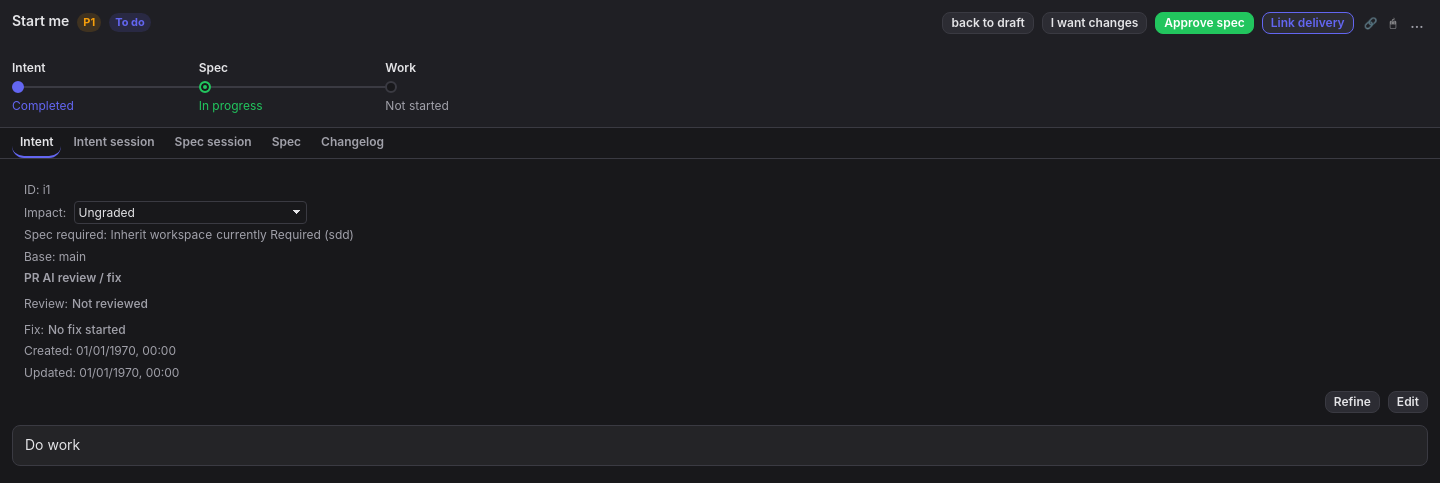
Scenario: IntentDetail.vue — SDD four-state main action › SDD on + spec written, not approved → Approve Spec opens the spec tab only
Click the button with class "req-btn" showing "Approve spec": (1204, 23) [1155,12,1254,34]
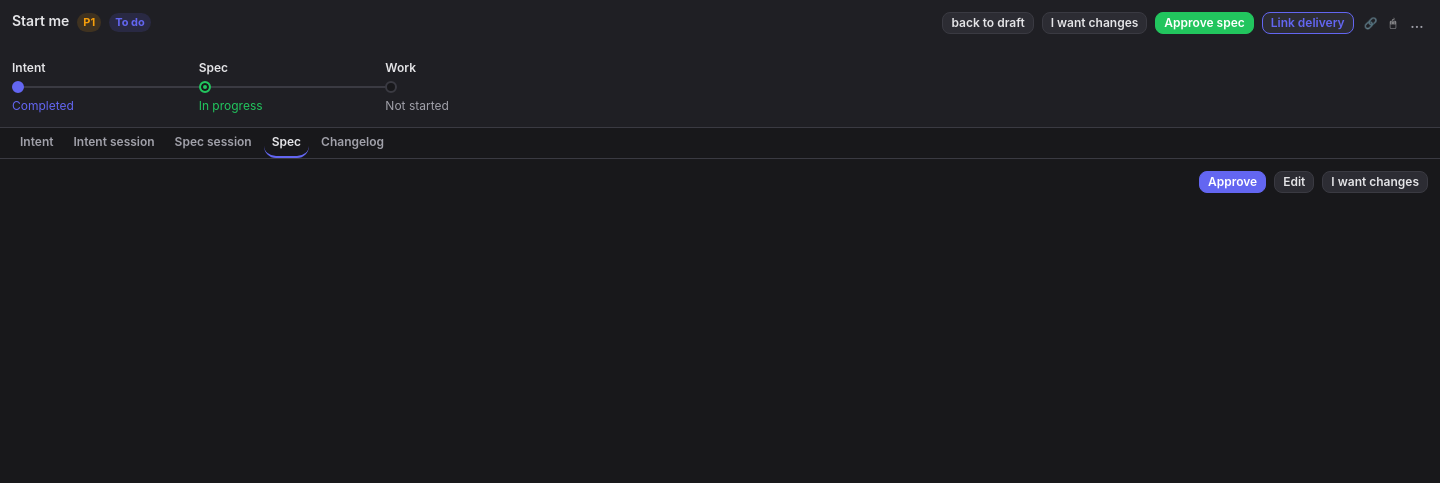
Check: the element with test id "tab-spec" is shown, box [1199,171,1428,193]
